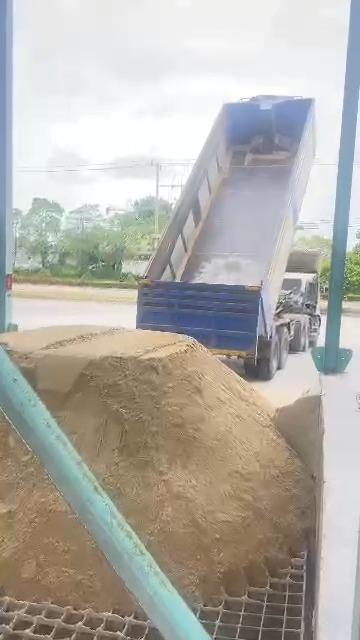sand: (2, 327, 312, 600), (0, 421, 132, 611), (274, 389, 322, 477)
